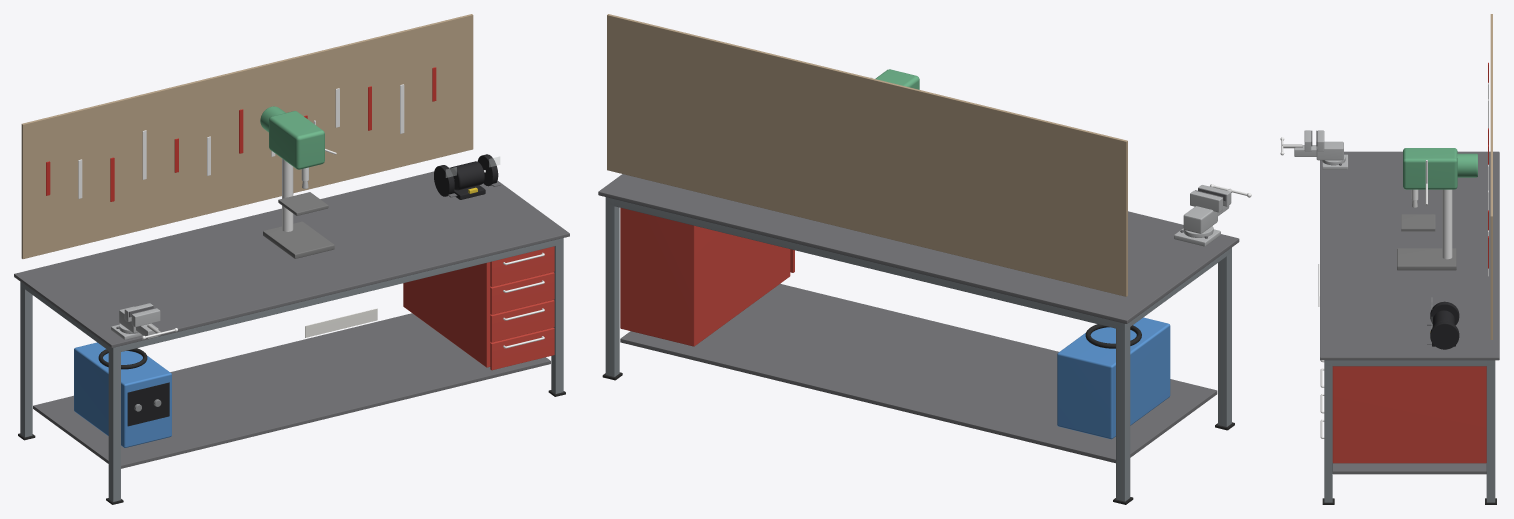
Rendered from repair_workshop.glb.
3 renders of one model, left to right at view 1: azimuth 30°, elevation 25°; view 2: azimuth 150°, elevation 25°; view 3: azimuth 270°, elevation 25°, orthographic. The views are drawn at different scales.
Visible parts, largest first — view 1: SM_repair_workshop; view 2: SM_repair_workshop; view 3: SM_repair_workshop.
Boxes of the visible parts, x1,y1,x2,y2 form: SM_repair_workshop: (14,14,569,504); SM_repair_workshop: (598,14,1251,504); SM_repair_workshop: (1280,14,1499,504).
Bounding box in the file's own units: 2.85 × 1.86 × 1.28.
